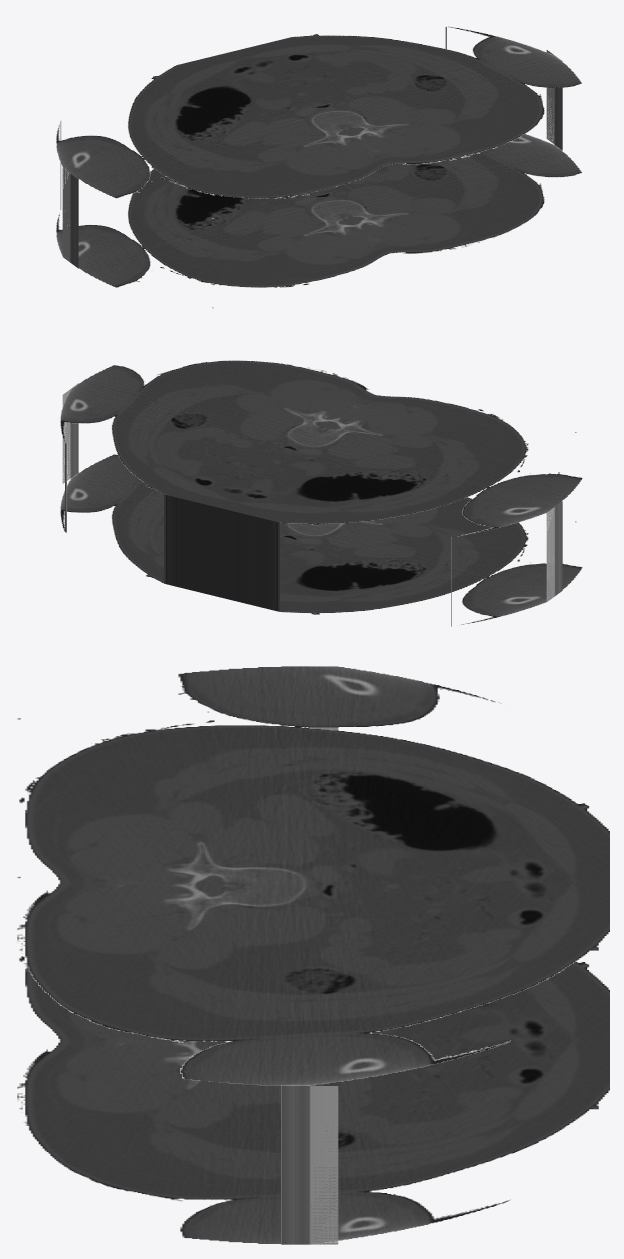
Rendered from abs.fbx.
The picture shows the model from 3 angles, top to bottom: view 1: azimuth 30°, elevation 25°; view 2: azimuth 150°, elevation 25°; view 3: azimuth 270°, elevation 25°; orthographic projection. The views are drawn at different scales.
Visible parts, largest first — view 1: pPlane6; view 2: pPlane6; view 3: pPlane6.
Part boxes in pixels (x1=…): pPlane6: x1=56, y1=26, x2=581, y2=308; pPlane6: x1=60, y1=360, x2=582, y2=626; pPlane6: x1=17, y1=666, x2=609, y2=1244.
Size of the model in its own units: 1 by 0.1763 by 0.6.
